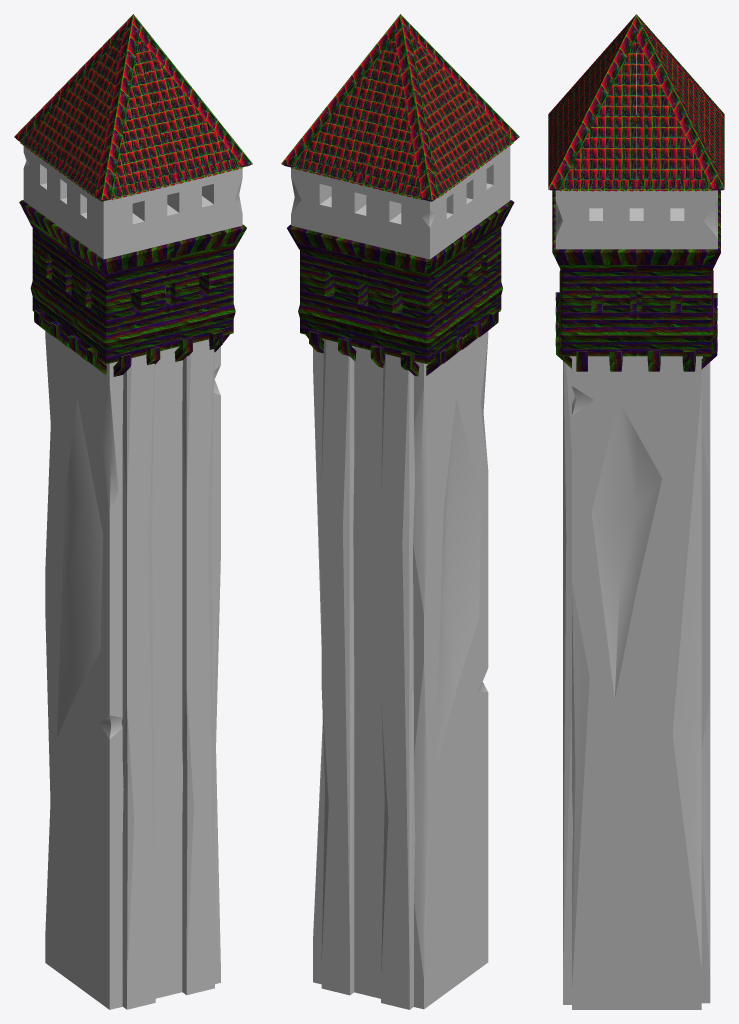
The model's file is SM_15x15TowerSquareSmall_Top.fbx.
The picture shows the model from 3 angles, left to right: view 1: azimuth 30°, elevation 25°; view 2: azimuth 150°, elevation 25°; view 3: azimuth 270°, elevation 25°; orthographic projection.
Parts seen in each view (by area): view 1: SM_15x15TowerSquareSmall_Top_LOD0; view 2: SM_15x15TowerSquareSmall_Top_LOD0; view 3: SM_15x15TowerSquareSmall_Top_LOD0.
Part boxes in pixels (x1=…): SM_15x15TowerSquareSmall_Top_LOD0: x1=14, y1=14, x2=252, y2=1009; SM_15x15TowerSquareSmall_Top_LOD0: x1=281, y1=14, x2=519, y2=1009; SM_15x15TowerSquareSmall_Top_LOD0: x1=548, y1=14, x2=724, y2=1009.
Size of the model in its own units: 1524 by 1524 by 9226.
3 materials, 2 textured.
